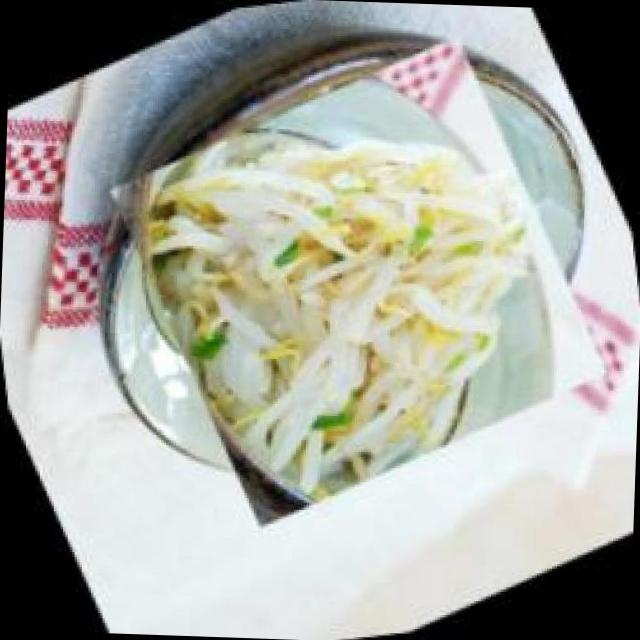mung_bean_sprouts: (82, 5, 636, 558)
